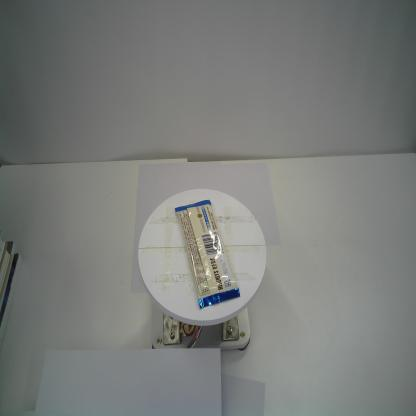Chocolate: (173, 198, 242, 312)
